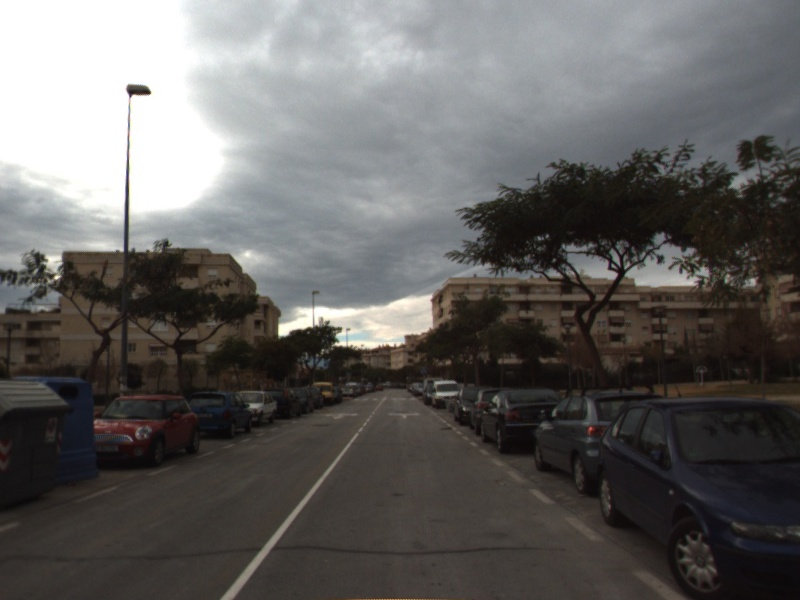LEFT_RIGHT: (385, 409, 424, 421)
